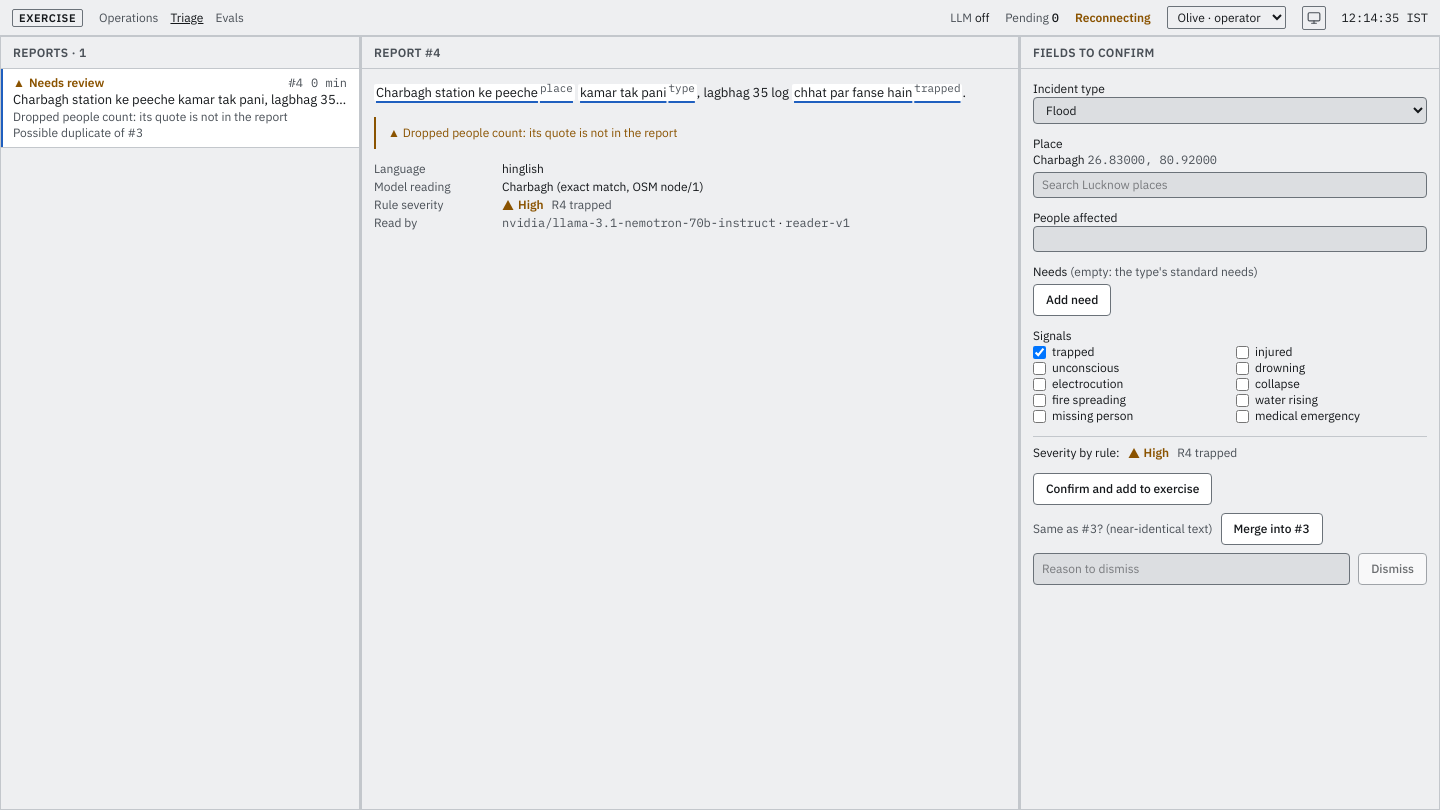
it: intake triage › shows quotes and why the report needs review, previews rule severity, and confirms edited fields
This screenshot has width=1440, height=810.
Expected: the text "Dropped people count: its quote is not in the report" is shown 2 times, [13,109,288,124]; [388,125,678,140]
Expected: the element titled "place" shows "Charbagh station ke peeche", [376,84,538,101]
In the field labelled "People affected": (1230, 239) [1033,226,1427,252], type "60"
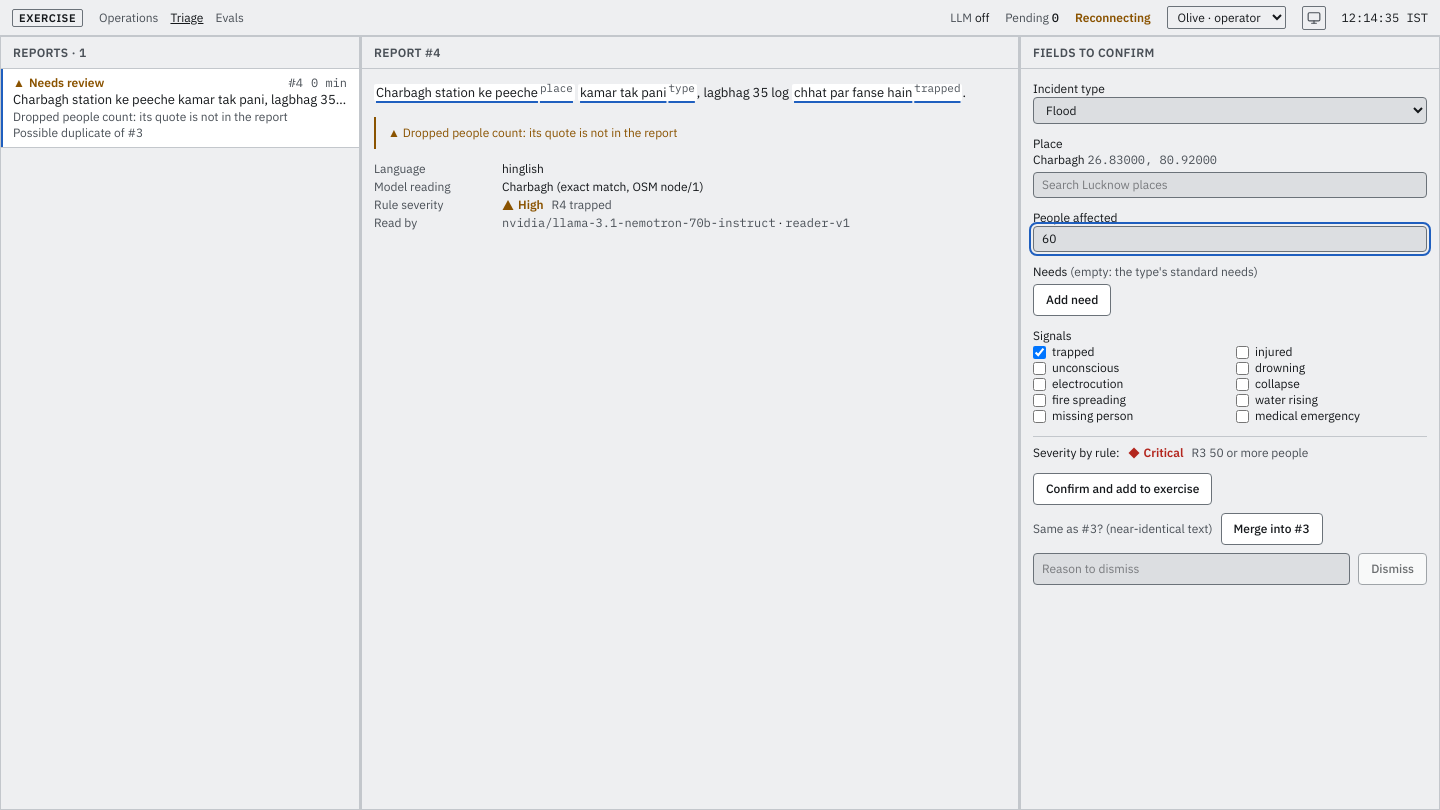
Expected: the text "R3 50 or more people" is shown, [1192,445,1308,461]
Click the button "Confirm and add to exercise": (1123, 489) [1033,473,1212,505]
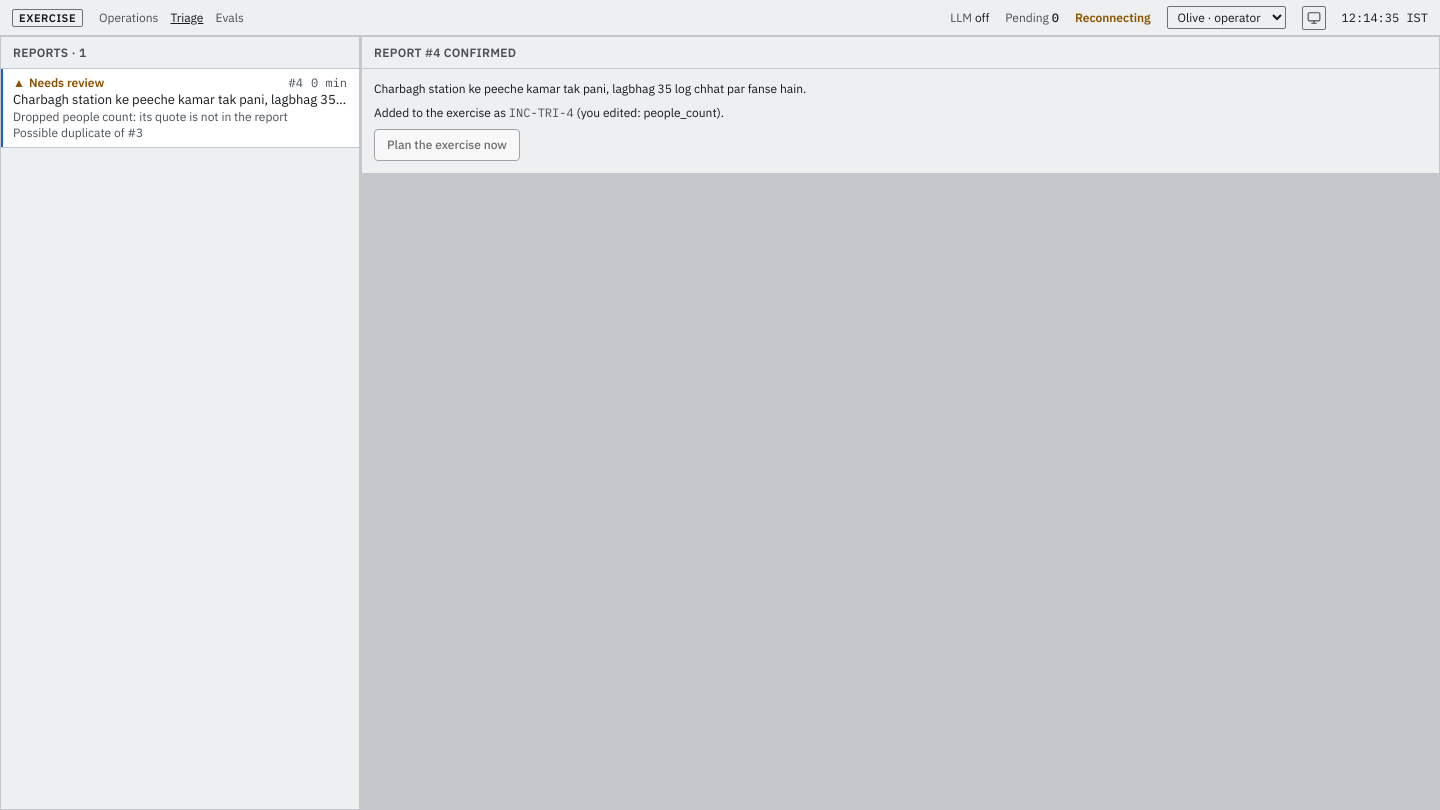
Expected: the text "Added to the exercise as" is shown, [374,105,509,120]
